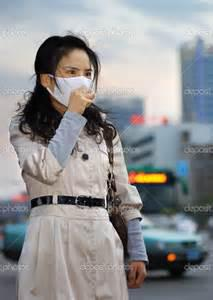OK: (54, 62, 99, 107)
